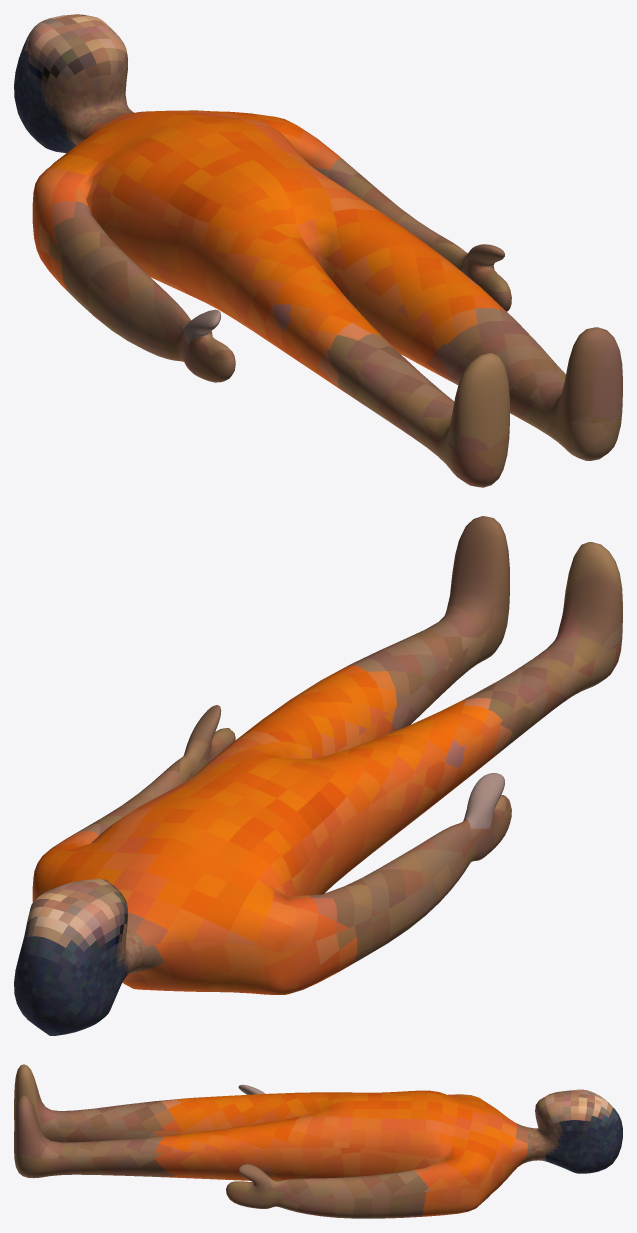
Rendered from Corpse2textiured.glb.
3 views of the same model, one above another, from view 1: azimuth 30°, elevation 25°; view 2: azimuth 150°, elevation 25°; view 3: azimuth 270°, elevation 25° (orthographic). The views are drawn at different scales.
Visible parts, largest first — view 1: Cube.001; view 2: Cube.001; view 3: Cube.001.
Part boxes in pixels (x1,y1,x2,y2): Cube.001: (14,14,622,487); Cube.001: (14,516,622,1035); Cube.001: (14,1064,622,1218).
Bounding box in the file's own units: 2.82 × 1.54 × 8.17.
Materials: 1 (1 with a texture image).
